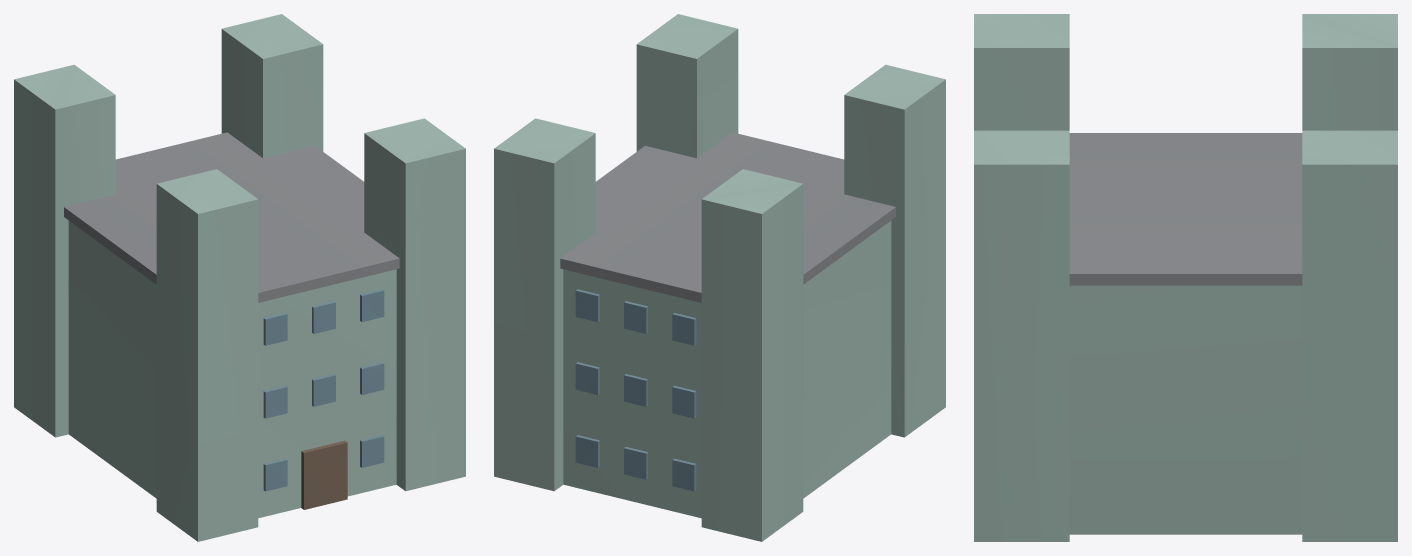
File: castle-03.glb
3 views of the same model, side by side, from view 1: azimuth 30°, elevation 25°; view 2: azimuth 150°, elevation 25°; view 3: azimuth 270°, elevation 25° (orthographic). The views are drawn at different scales.
Parts seen in each view (by area): view 1: world; view 2: world; view 3: world.
Part boxes in pixels (box(x1,y1,x2,y2)): world: box(14, 14, 465, 541); world: box(494, 14, 945, 541); world: box(974, 14, 1397, 541).
Bounding box in the file's own units: 1.97 × 2.31 × 2.35.
